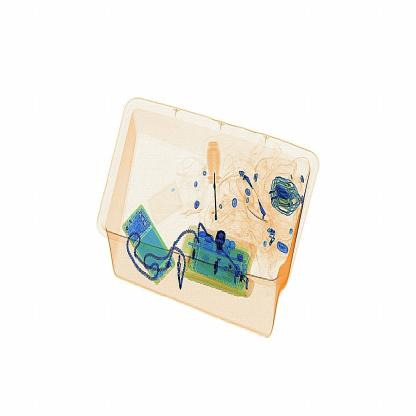wrench: (204, 122, 230, 220)
